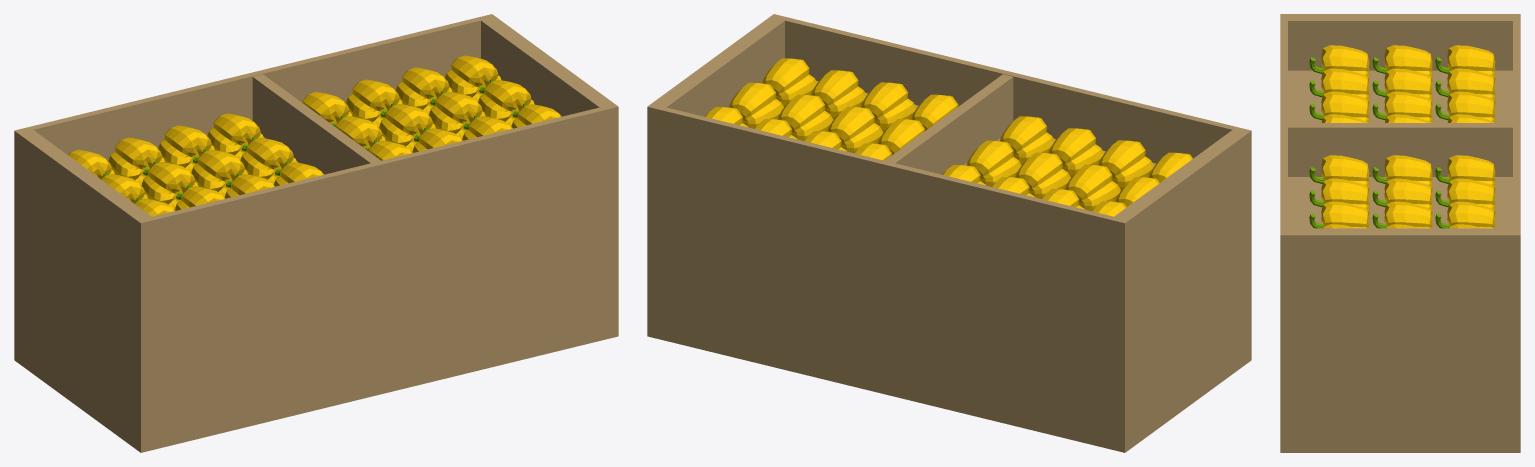
The model's file is yellow_pepper_box.gltf.
The picture shows the model from 3 angles, left to right: view 1: azimuth 30°, elevation 25°; view 2: azimuth 150°, elevation 25°; view 3: azimuth 270°, elevation 25°; orthographic projection. The views are drawn at different scales.
Parts seen in each view (by area): view 1: Cube; view 2: Cube; view 3: Cube.
Boxes of the visible parts, left/top/right/bottom form: Cube: left=14, top=14, right=618, bottom=452; Cube: left=647, top=14, right=1251, bottom=452; Cube: left=1280, top=14, right=1520, bottom=452.
Size of the model in its own units: 9.22 by 4.23 by 4.23.
